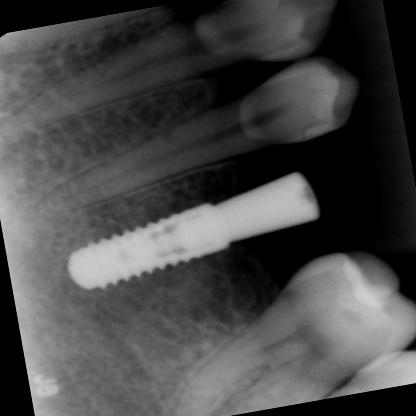ITI: (53, 191, 255, 301)
